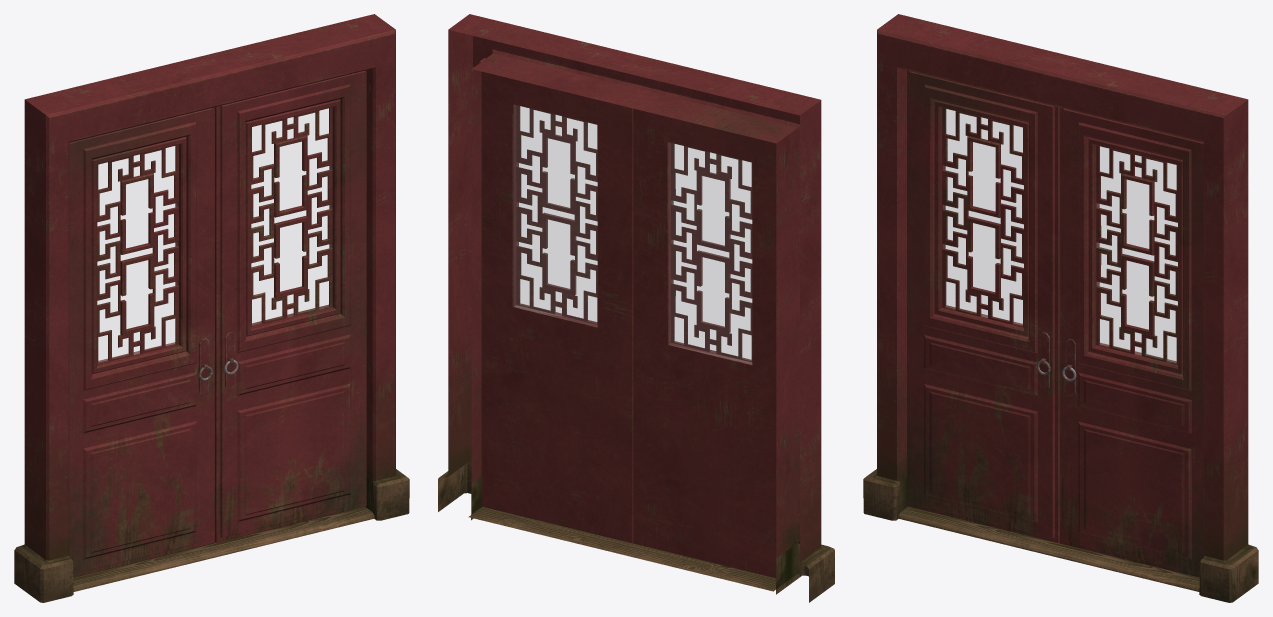
File: 0door - asian_inspired_door.glb
The picture shows the model from 3 angles, left to right: view 1: azimuth 30°, elevation 25°; view 2: azimuth 150°, elevation 25°; view 3: azimuth 330°, elevation 25°; orthographic projection.
Parts seen in each view (by area): view 1: Frame (×2), Door1, Door, glass1, pCube57, pCube30, pCube34, pCube56, pCube51, pCube32, pCube54, pCube53 (+13 smaller); view 2: Frame (×3), Door1, Door, glass1, pCube57, pCube30, pCube34, pCube56, pCube51, pCube54, pCube53, pCube52 (+11 smaller); view 3: Frame (×2), Door, Door1, glass1, pCube57, pCube54, pCube52, pCube32, pCube35, pCube30, pCube31, pCube53 (+13 smaller).
Part boxes in pixels (<box>): Frame (×2): <box>14,14,409,602</box>; Door1: <box>215,70,366,542</box>; Door: <box>69,107,214,577</box>; glass1: <box>97,108,331,361</box>; pCube57: <box>73,506,374,591</box>; pCube30: <box>290,226,332,316</box>; pCube34: <box>290,107,332,190</box>; pCube56: <box>137,264,178,353</box>; pCube51: <box>137,145,178,227</box>; pCube32: <box>251,242,290,326</box>; pCube54: <box>97,279,137,364</box>; pCube53: <box>120,173,153,254</box>; Frame (×3): <box>438,14,834,602</box>; Door1: <box>479,58,633,543</box>; Door: <box>633,108,776,577</box>; glass1: <box>513,105,751,364</box>; pCube57: <box>468,506,800,591</box>; pCube30: <box>516,224,558,314</box>; pCube34: <box>516,105,558,188</box>; pCube56: <box>671,261,712,351</box>; pCube51: <box>671,143,712,225</box>; pCube54: <box>713,278,752,362</box>; pCube53: <box>696,170,730,252</box>; pCube52: <box>713,154,752,241</box>; Frame (×2): <box>863,14,1258,602</box>; Door: <box>907,70,1059,543</box>; Door1: <box>1060,108,1203,577</box>; glass1: <box>943,109,1177,362</box>; pCube57: <box>898,506,1199,591</box>; pCube54: <box>942,227,984,316</box>; pCube52: <box>942,108,984,190</box>; pCube32: <box>1096,264,1137,354</box>; pCube35: <box>1096,145,1137,228</box>; pCube30: <box>1137,280,1177,364</box>; pCube31: <box>1121,173,1154,255</box>; pCube53: <box>967,136,1000,217</box>.
Size of the model in its own units: 1.6 by 2 by 0.2246.
Materials: 7 (7 with a texture image).
